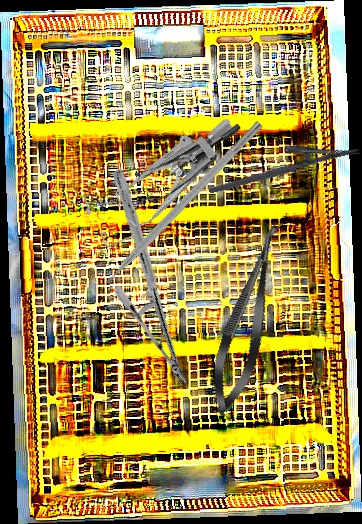Chopper: (82, 111, 264, 299)
Micro Scissor: (201, 215, 295, 420)
Needle Holder: (38, 166, 262, 389), (203, 127, 360, 195)
Speculum: (74, 115, 257, 251), (103, 84, 244, 232)
